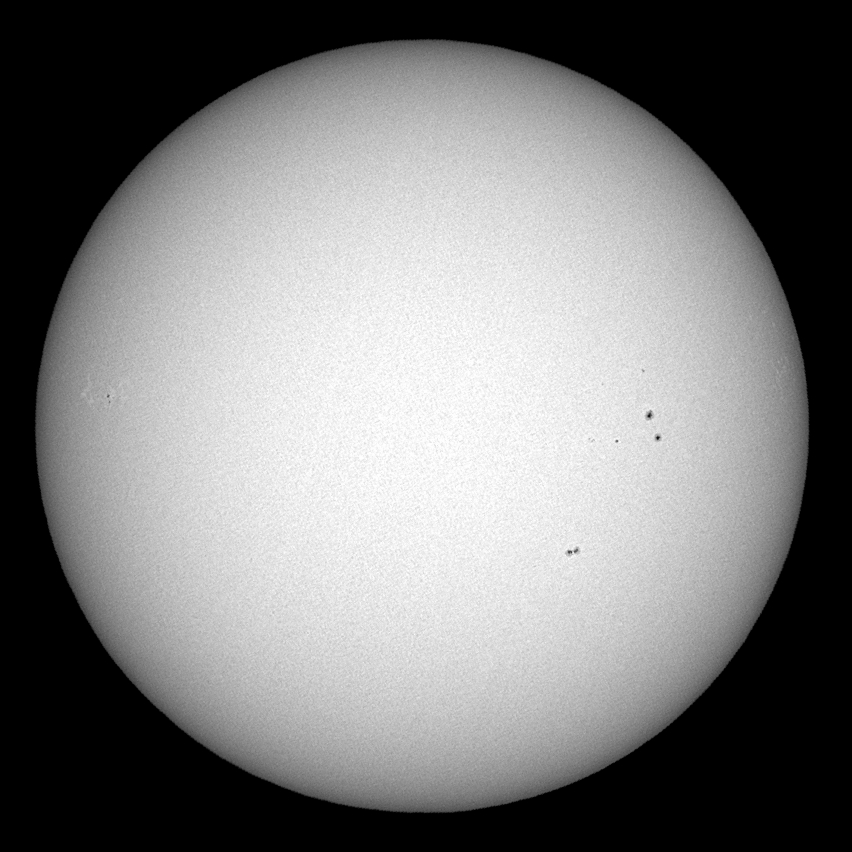sunspot: (559, 542, 586, 560), (648, 430, 667, 446), (642, 407, 658, 424)
